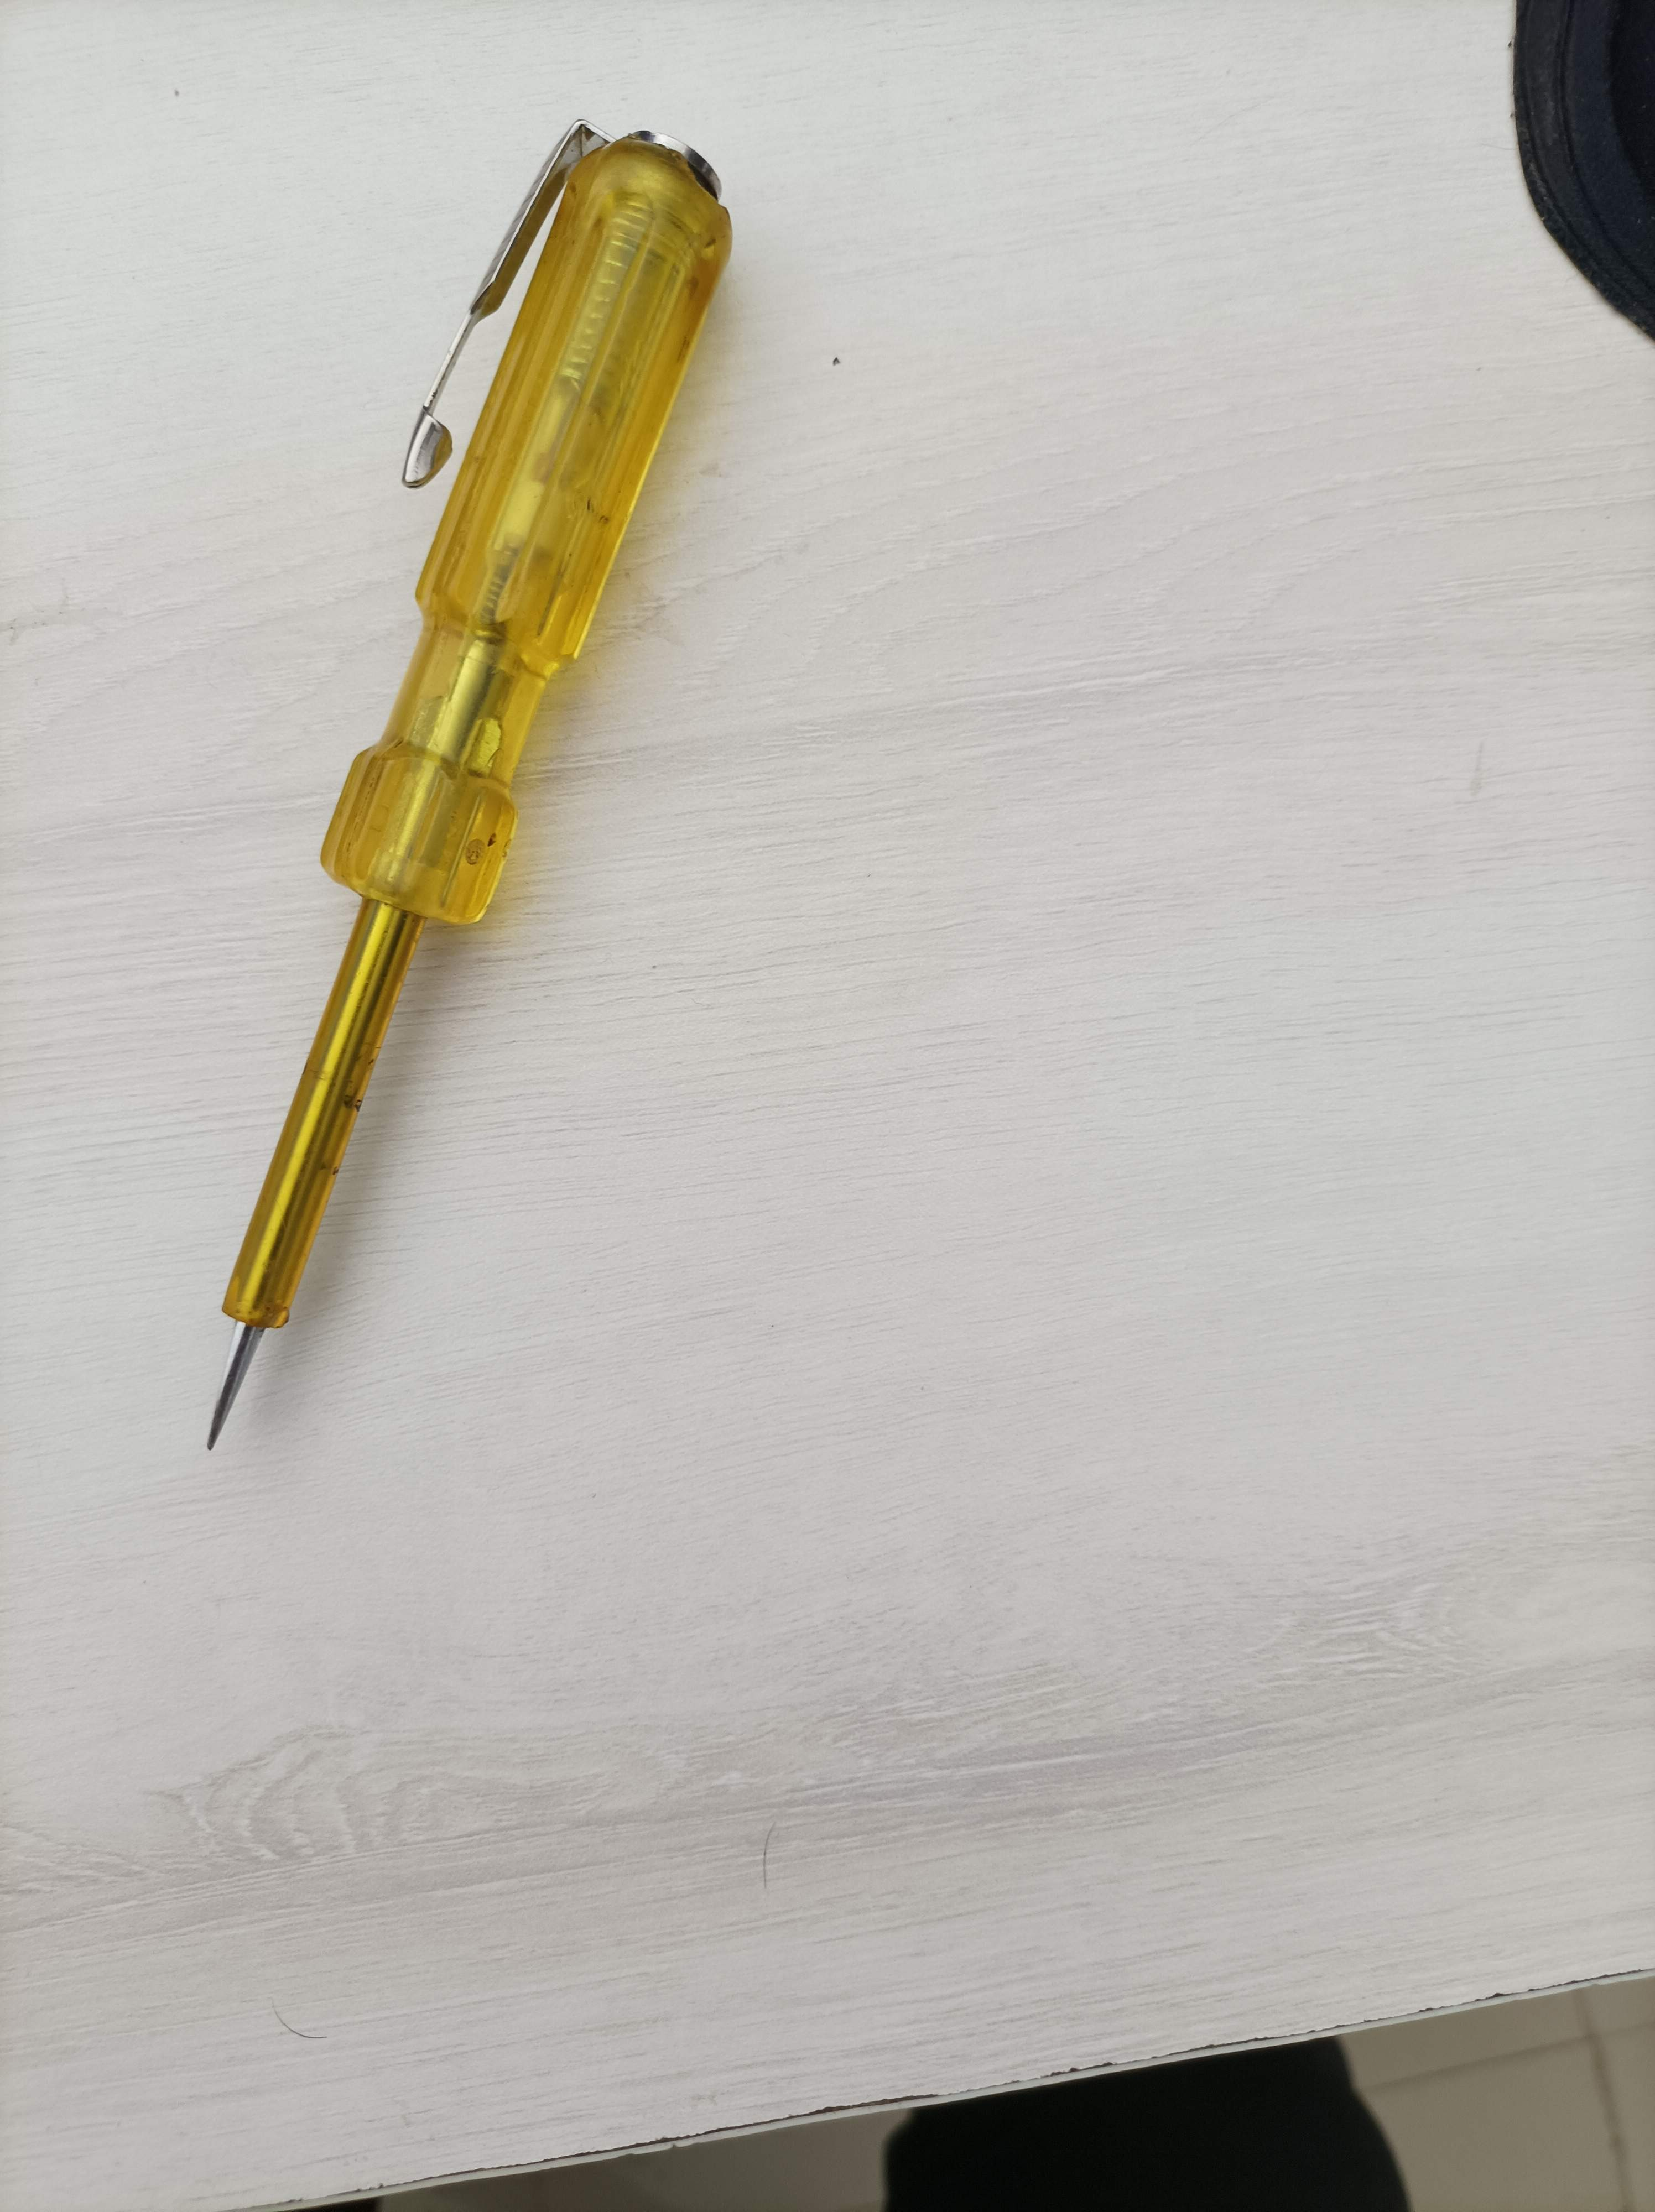screwdriver: (184, 109, 749, 1479)
